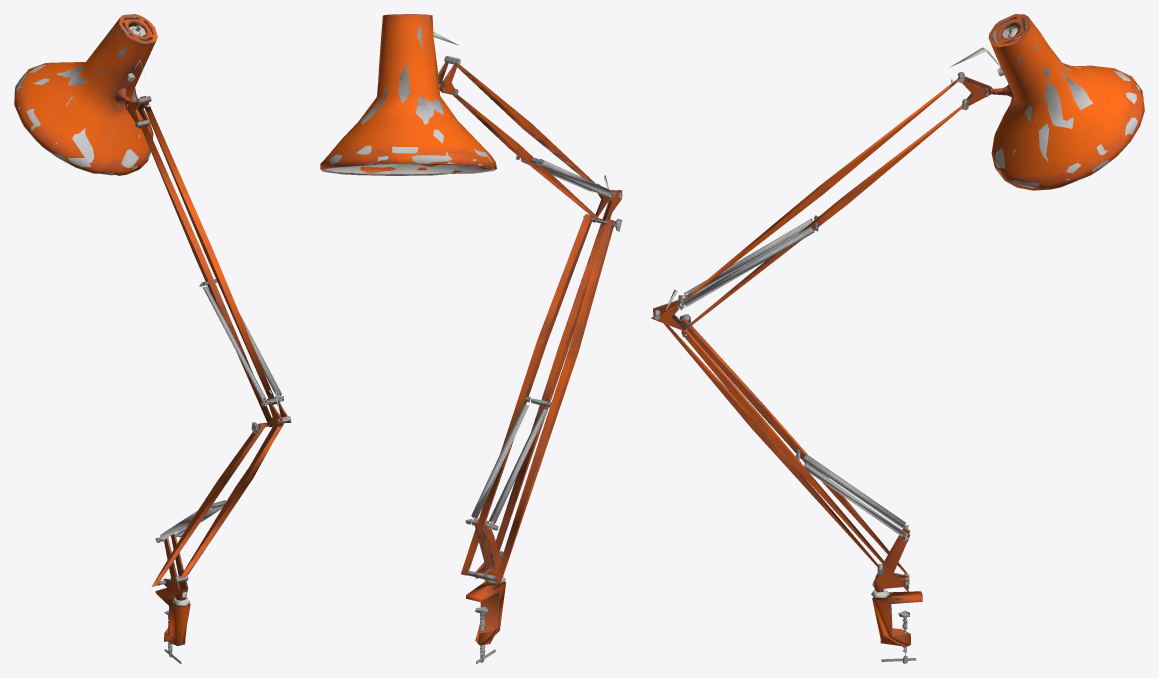
Rendered from desk_lamp_arm_01.ktx2.glb.
3 views of the same model, side by side, from view 1: azimuth 30°, elevation 25°; view 2: azimuth 150°, elevation 25°; view 3: azimuth 270°, elevation 25° (orthographic). The views are drawn at different scales.
Parts seen in each view (by area): view 1: desk_lamp_arm_01; view 2: desk_lamp_arm_01; view 3: desk_lamp_arm_01.
Boxes of the visible parts, left/top/right/bottom form: desk_lamp_arm_01: left=14, top=14, right=291, bottom=663; desk_lamp_arm_01: left=320, top=14, right=622, bottom=663; desk_lamp_arm_01: left=651, top=14, right=1144, bottom=663.
Size of the model in its own units: 0.2017 by 0.8926 by 0.6132.
Materials: 2 (2 with a texture image).
